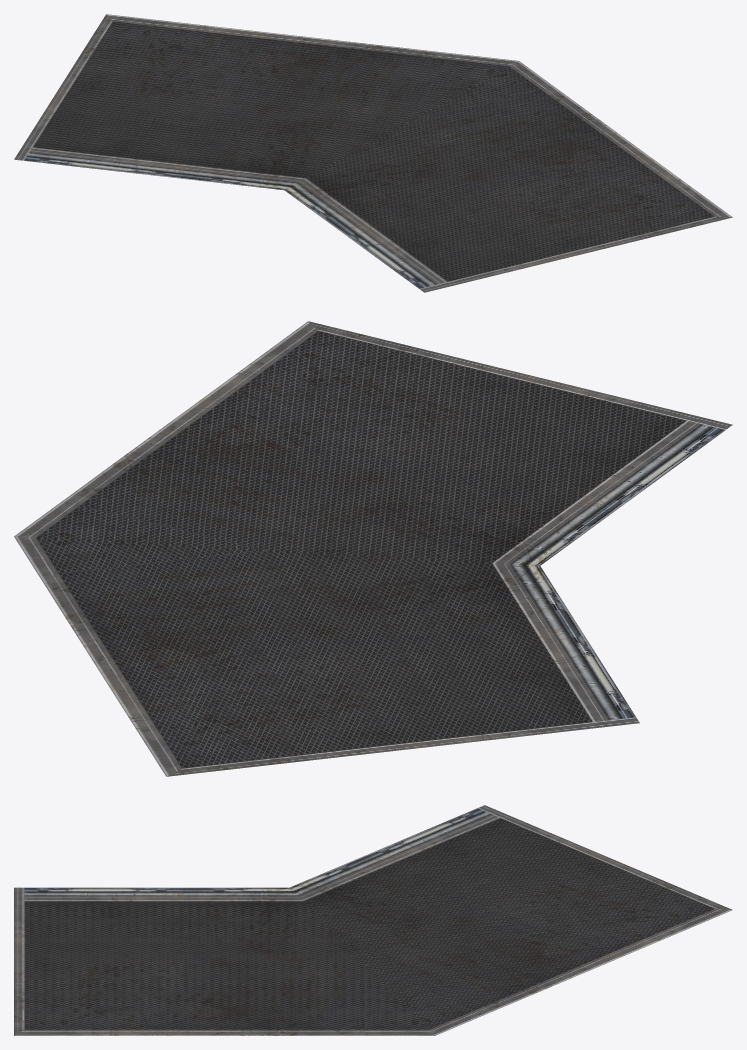
Rendered from Floor_A_5mts_07.fbx.
3 renders of one model, top to bottom at view 1: azimuth 30°, elevation 25°; view 2: azimuth 150°, elevation 25°; view 3: azimuth 270°, elevation 25°, orthographic. The views are drawn at different scales.
Visible parts, largest first — view 1: Floor_A_5mts_07; view 2: Floor_A_5mts_07; view 3: Floor_A_5mts_07.
Part boxes in pixels (x1=…): Floor_A_5mts_07: x1=14, y1=14, x2=732, y2=292; Floor_A_5mts_07: x1=14, y1=321, x2=732, y2=776; Floor_A_5mts_07: x1=14, y1=805, x2=732, y2=1035.
Size of the model in its own units: 389 by 3.69e-05 by 512.
Materials: 1 (1 with a texture image).
